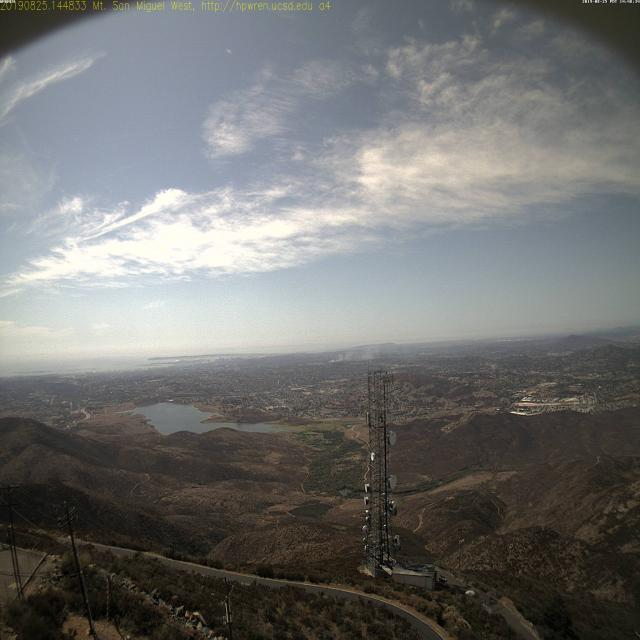smoke: (326, 350, 350, 364)
